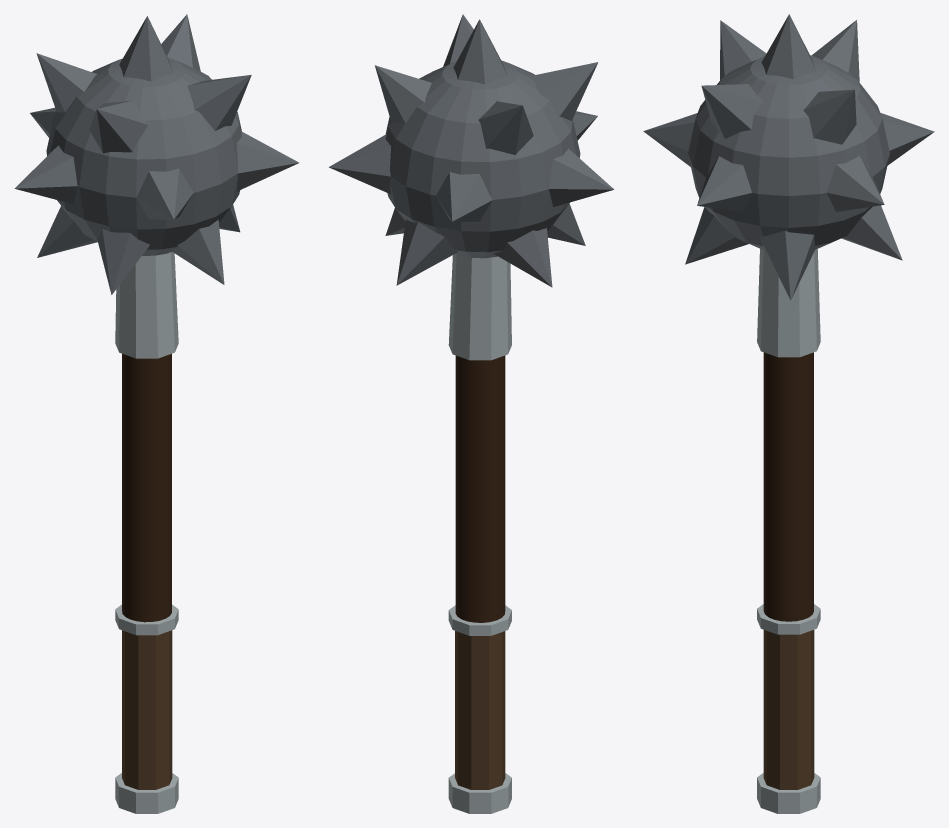
The picture shows the model from 3 angles, left to right: view 1: azimuth 30°, elevation 25°; view 2: azimuth 150°, elevation 25°; view 3: azimuth 270°, elevation 25°; orthographic projection.
Visible parts, largest first — view 1: SM_Mace_01_LOD0; view 2: SM_Mace_01_LOD0; view 3: SM_Mace_01_LOD0.
Part boxes in pixels (box(x1,y1,x2,y2)): SM_Mace_01_LOD0: box(14, 14, 299, 813); SM_Mace_01_LOD0: box(329, 14, 613, 813); SM_Mace_01_LOD0: box(643, 14, 934, 813).
Size of the model in its own units: 0.2546 by 0.7942 by 0.2667.
